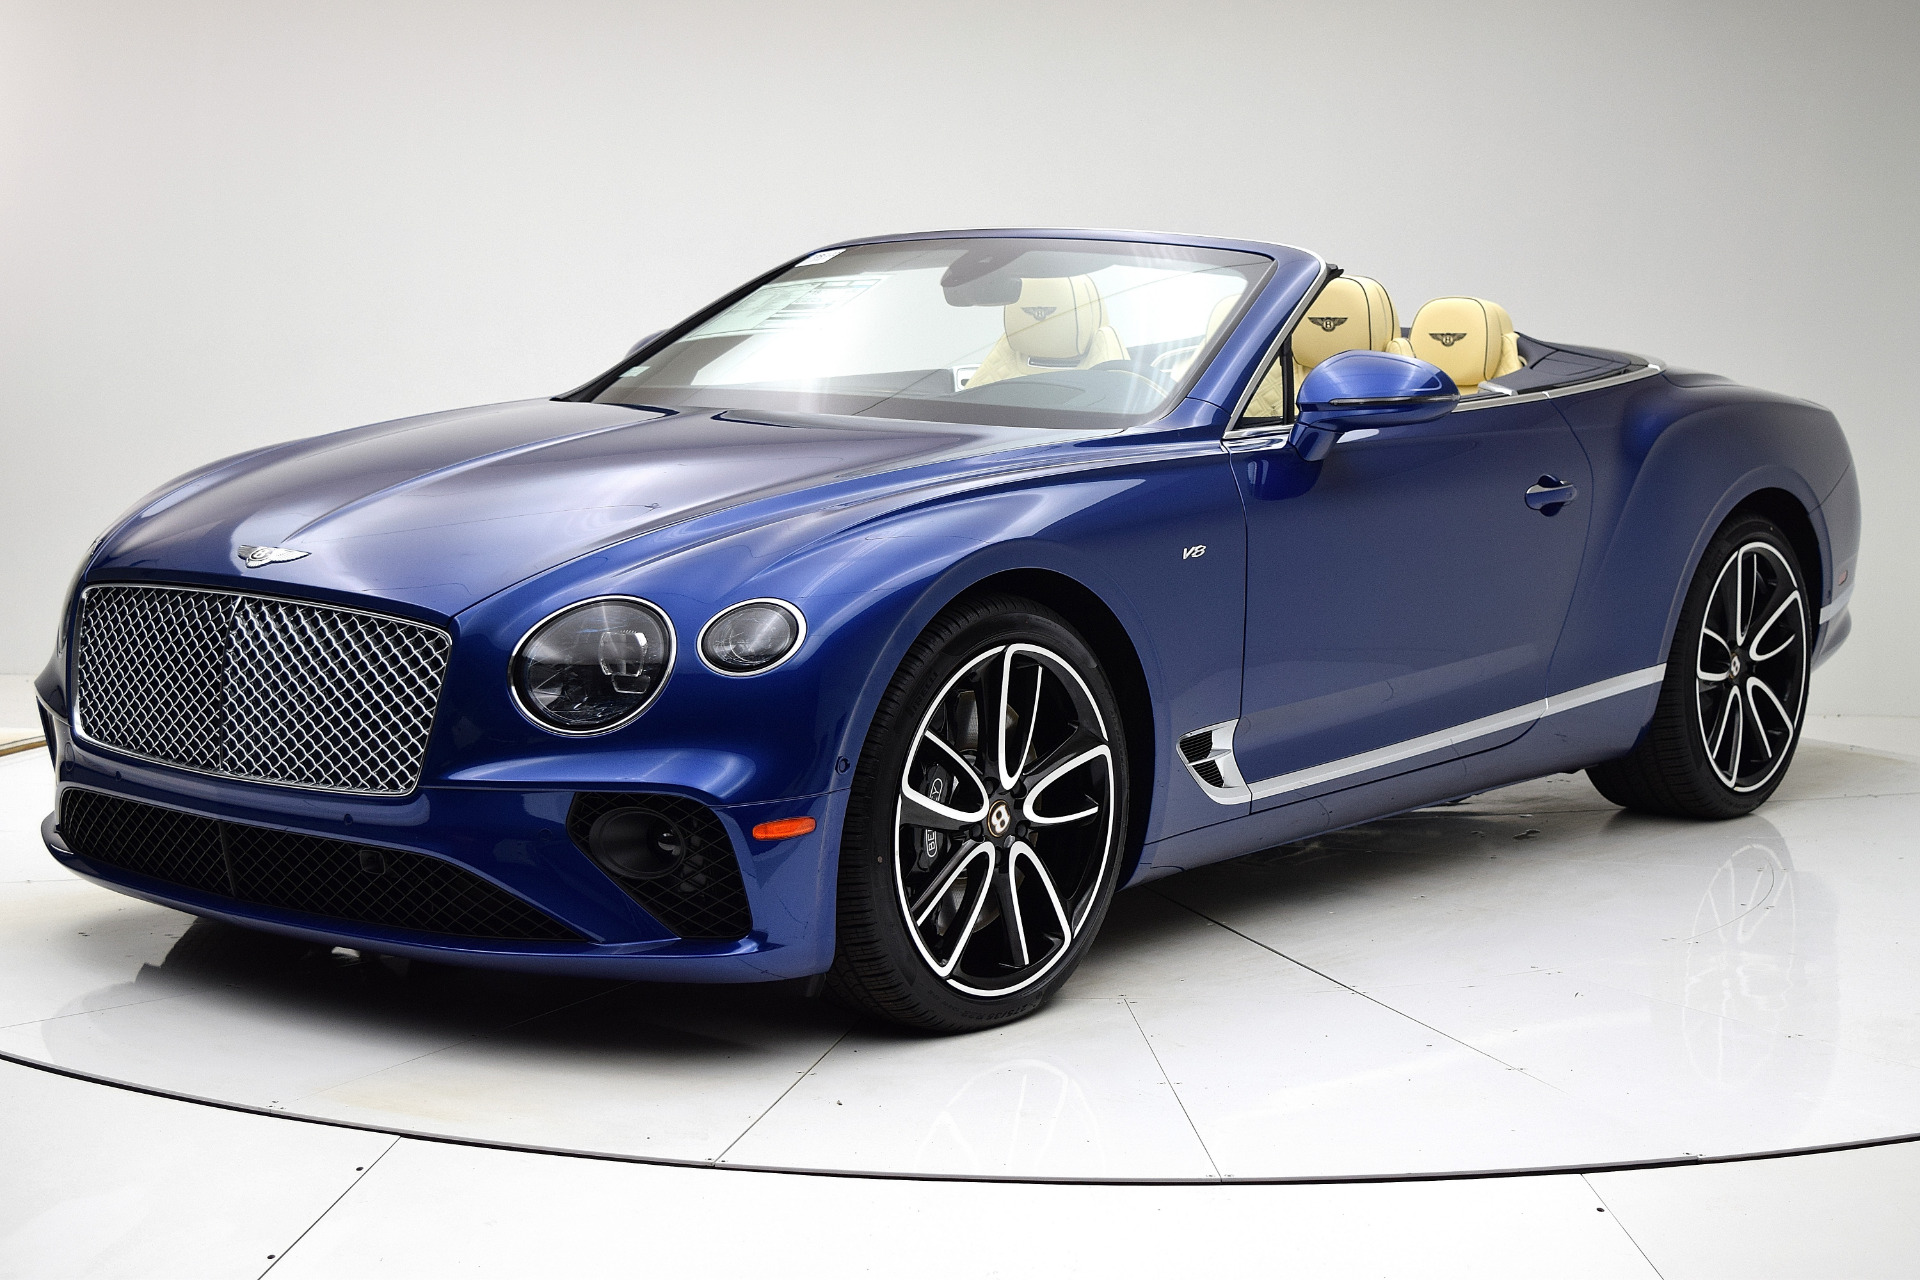car: (33, 229, 1859, 1041)
